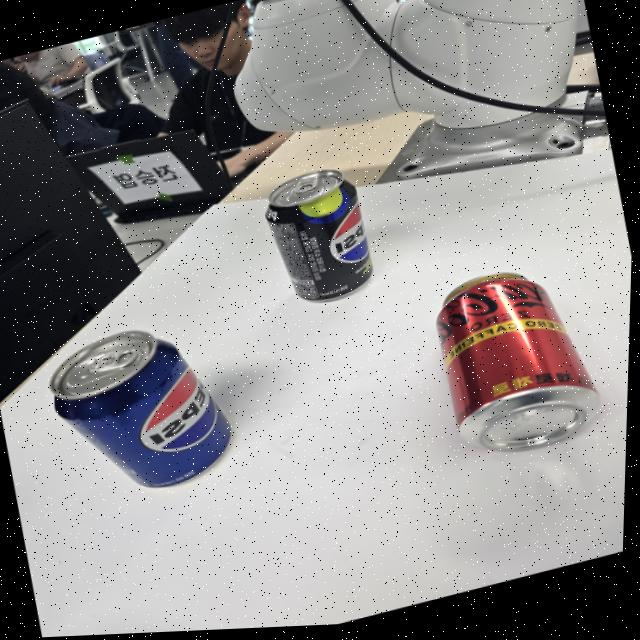can_coke_decaf: (432, 271, 599, 455)
can_pepsi: (50, 329, 236, 486)
can_pepsi_zero: (261, 167, 376, 302)
